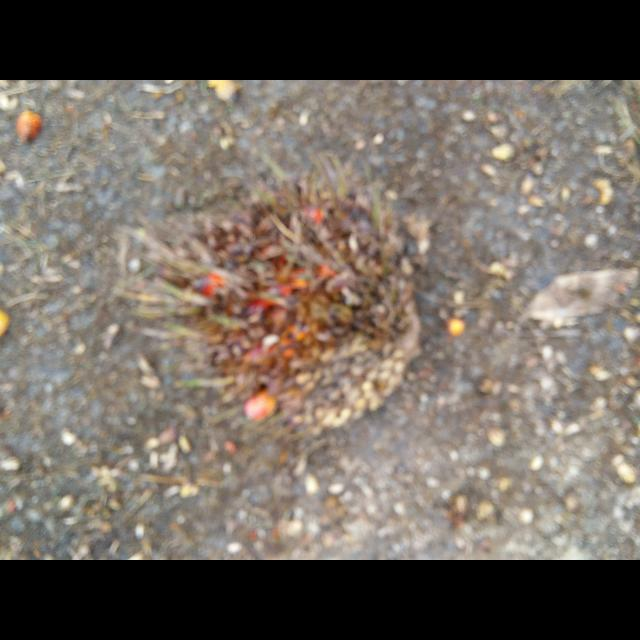Overripe: (122, 157, 420, 434)
